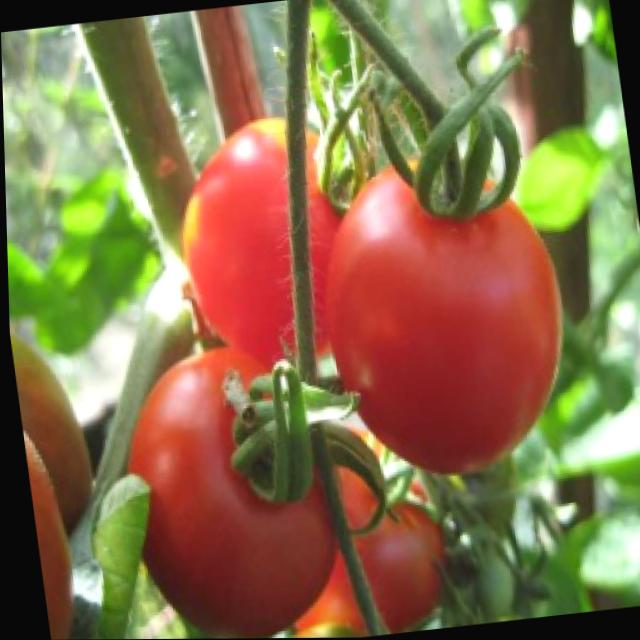tomato: (303, 144, 577, 477), (108, 335, 366, 638), (167, 114, 362, 403)
